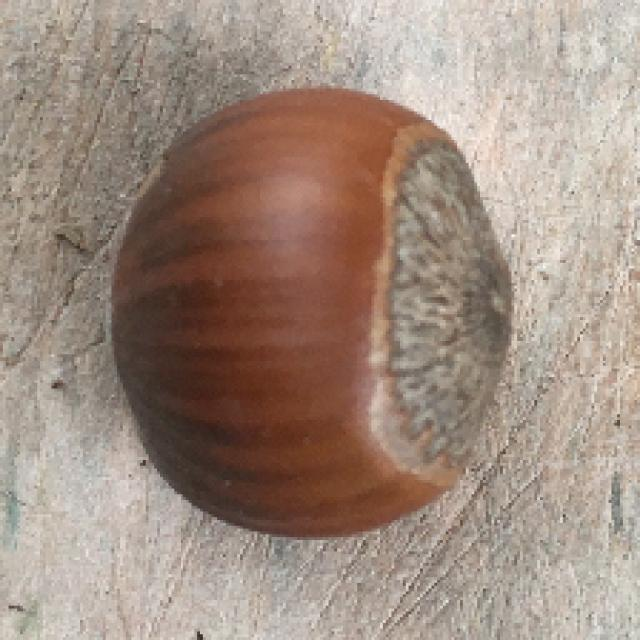damagedHazelnut: (104, 85, 516, 542)
